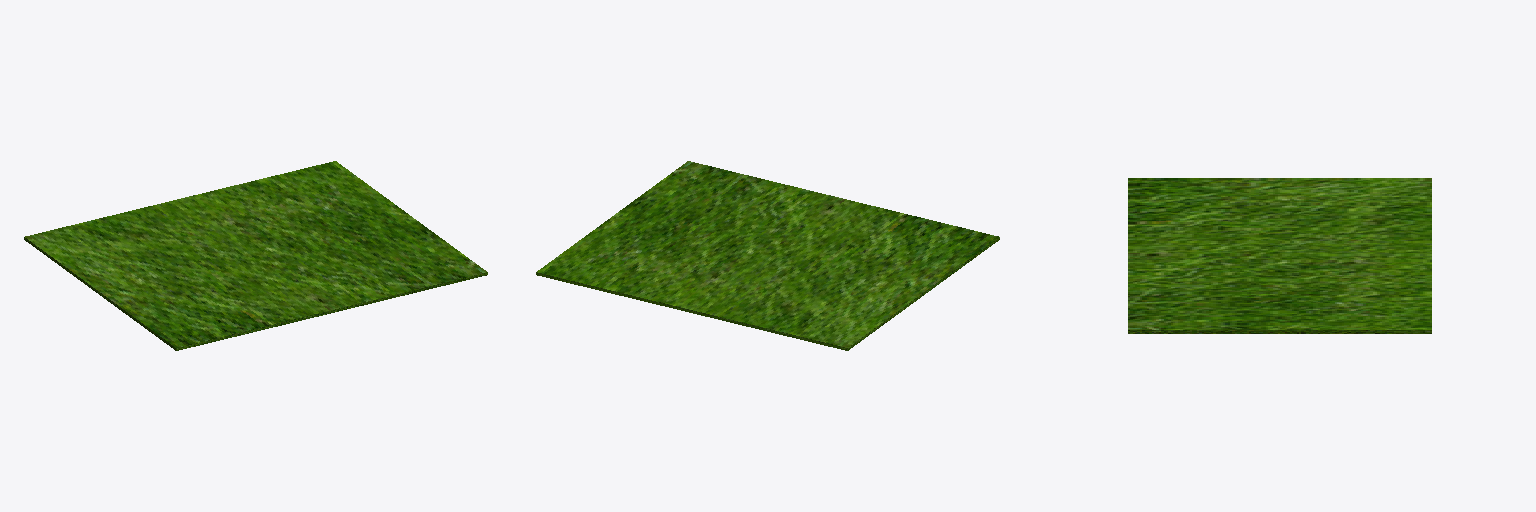
3 renders of one model, left to right at view 1: azimuth 30°, elevation 25°; view 2: azimuth 150°, elevation 25°; view 3: azimuth 270°, elevation 25°, orthographic.
Parts seen in each view (by area): view 1: pCube1; view 2: pCube1; view 3: pCube1.
Part boxes in pixels (left/top/right/bottom): pCube1: left=24, top=161, right=487, bottom=350; pCube1: left=536, top=161, right=999, bottom=350; pCube1: left=1128, top=178, right=1431, bottom=333.
Bounding box in the file's own units: 21.83 × 0.2038 × 18.47.
1 materials, 1 textured.